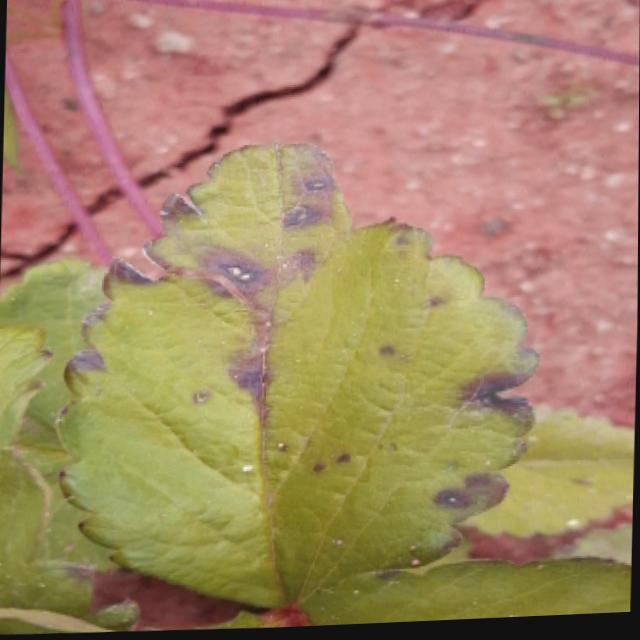Leaf Spot: (57, 143, 538, 612), (0, 323, 139, 632), (304, 560, 632, 629)
